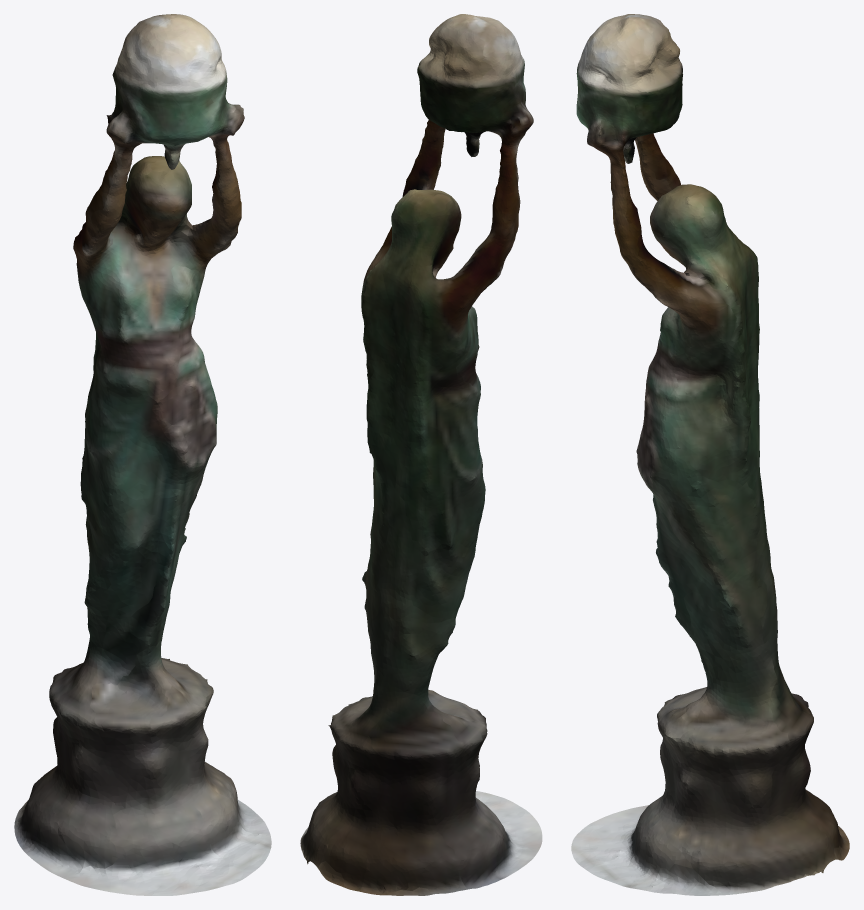
File: modelo.glb
3 views of the same model, side by side, from view 1: azimuth 30°, elevation 25°; view 2: azimuth 150°, elevation 25°; view 3: azimuth 270°, elevation 25° (orthographic). The views are drawn at different scales.
Visible parts, largest first — view 1: mesh; view 2: mesh; view 3: mesh.
Part boxes in pixels (left/top/right/bottom): mesh: left=14, top=14, right=271, bottom=895; mesh: left=300, top=14, right=542, bottom=895; mesh: left=571, top=14, right=849, bottom=895.
Bounding box in the file's own units: 0.3669 × 1.4 × 0.429.
1 material, 1 textured.
